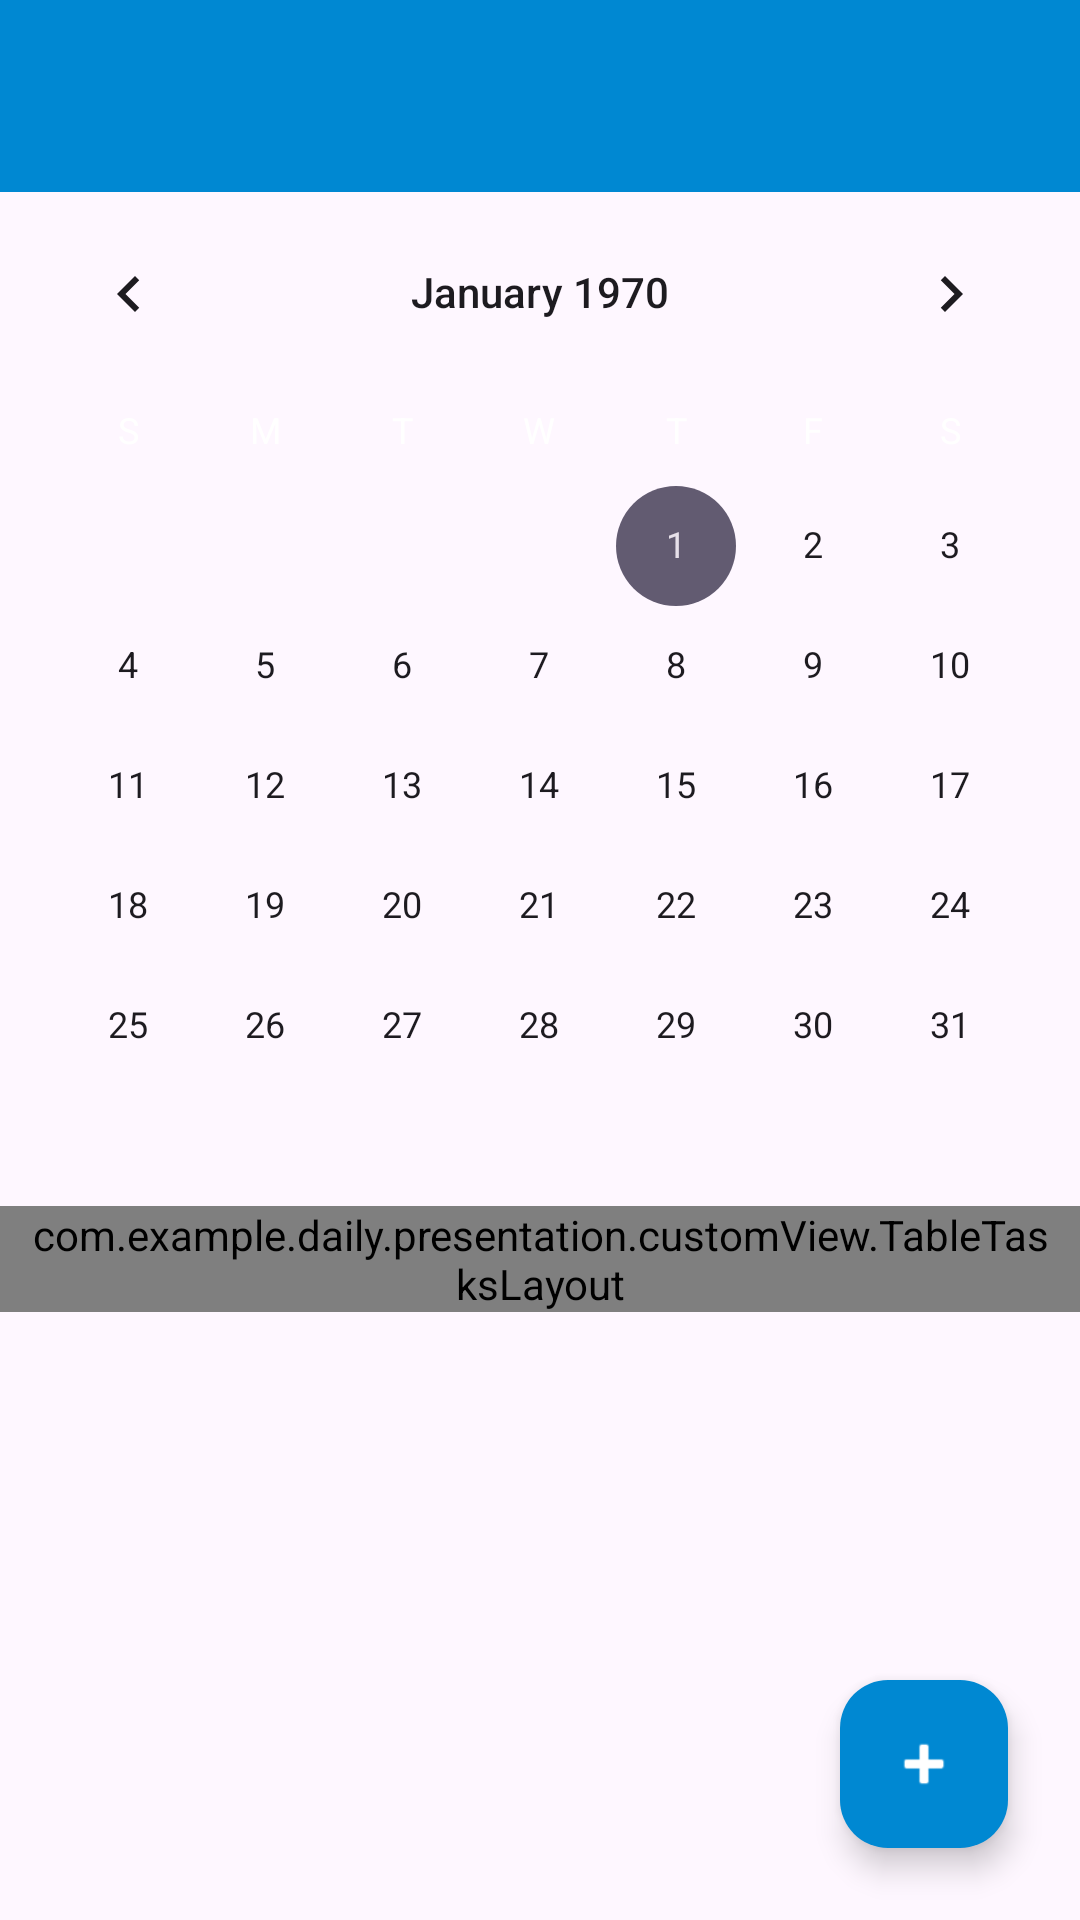

Where to tap for icons on this 1080*1920 app screen, as (x=x, y=y):
Добавить задание: (x=924, y=1764)
